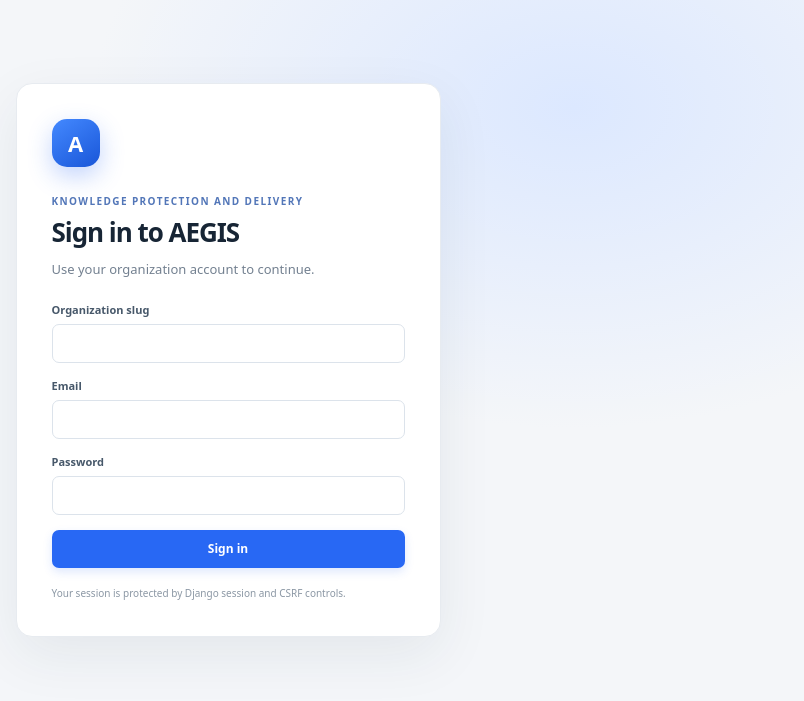
Test case: login page › gives non-specific wait-and-retry guidance when sign-in is rate limited
Type "north" into the field labelled "Organization slug" at x=228, y=343, box x1=52 y1=324 x2=404 y2=362
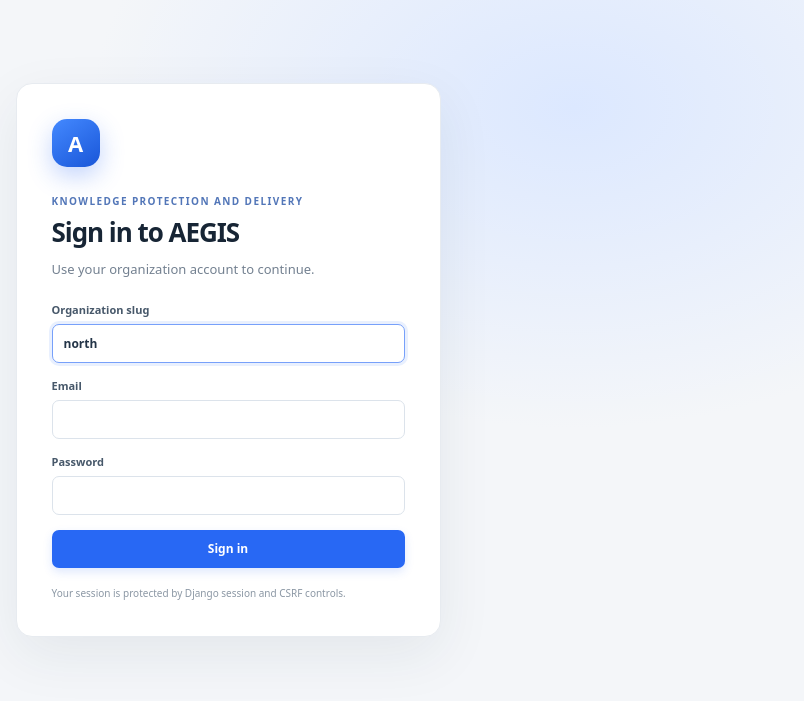
Type "person@example.test" into the field labelled "Email" at x=228, y=419, box x1=52 y1=400 x2=404 y2=438
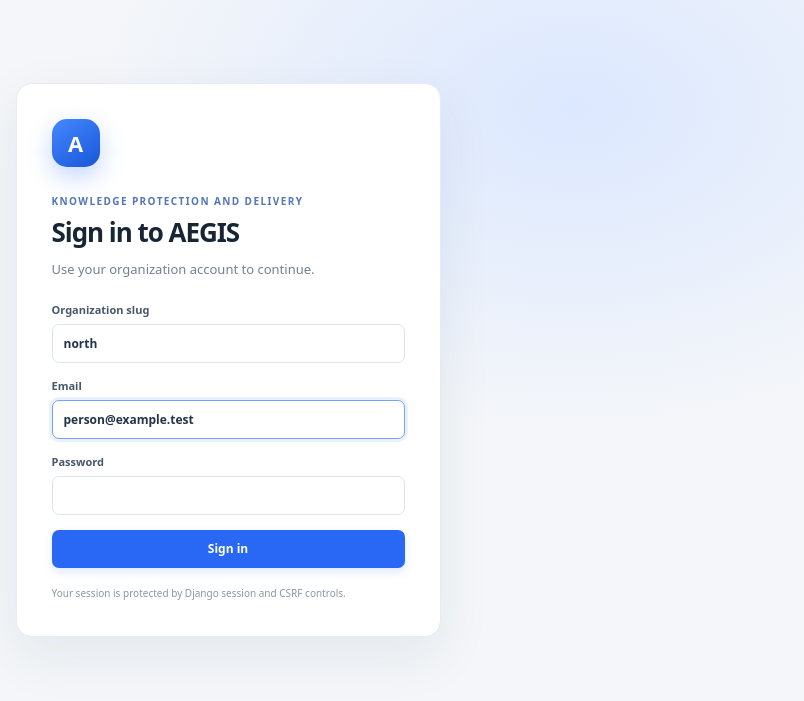
Type "wrong" into the password field labelled "Password" at x=228, y=495, box x1=52 y1=476 x2=404 y2=514
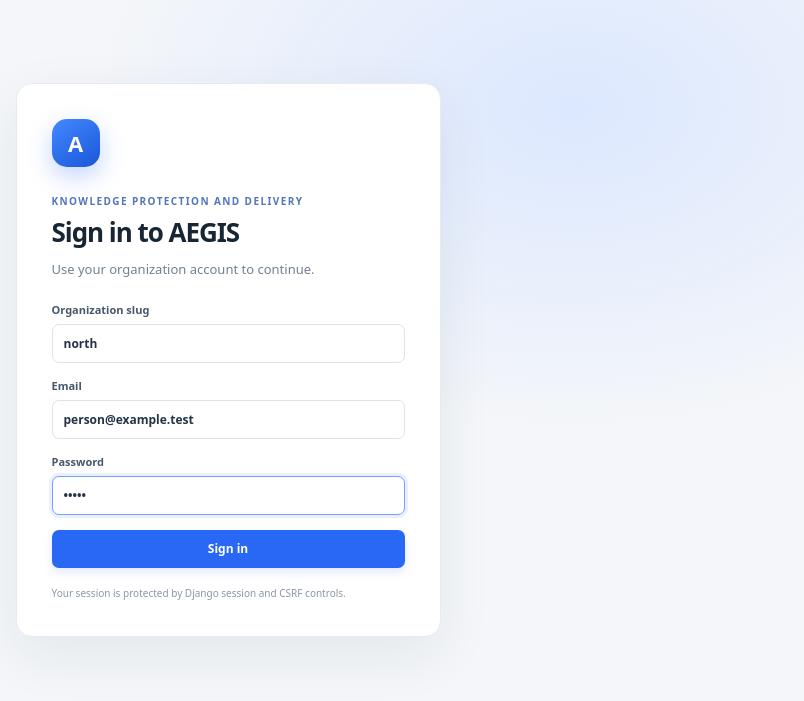
Click the button "Sign in" at x=228, y=548, box x1=52 y1=530 x2=404 y2=568
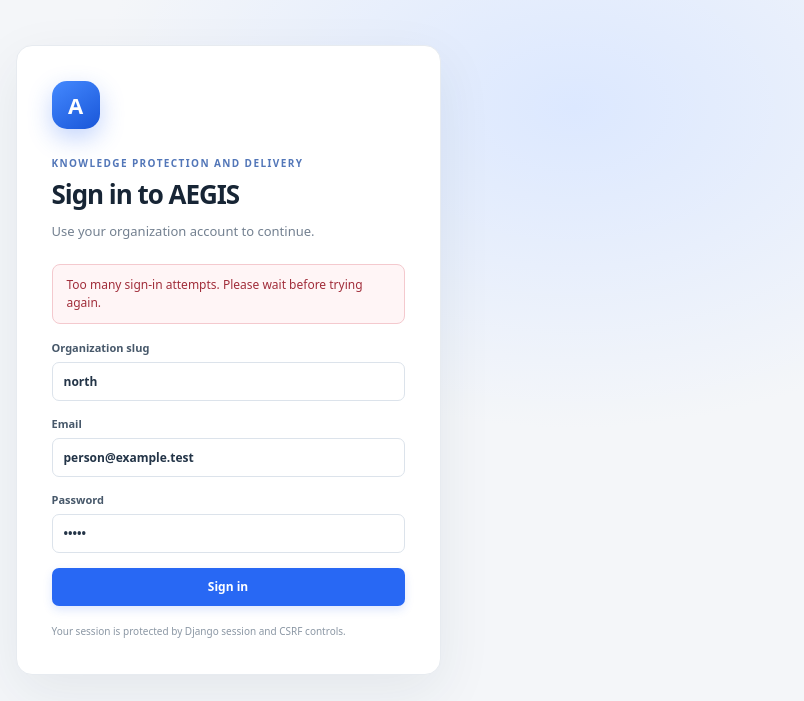
Now the message reads "Too many sign-in attempts. Please wait before trying again.", box x1=66 y1=276 x2=362 y2=310
